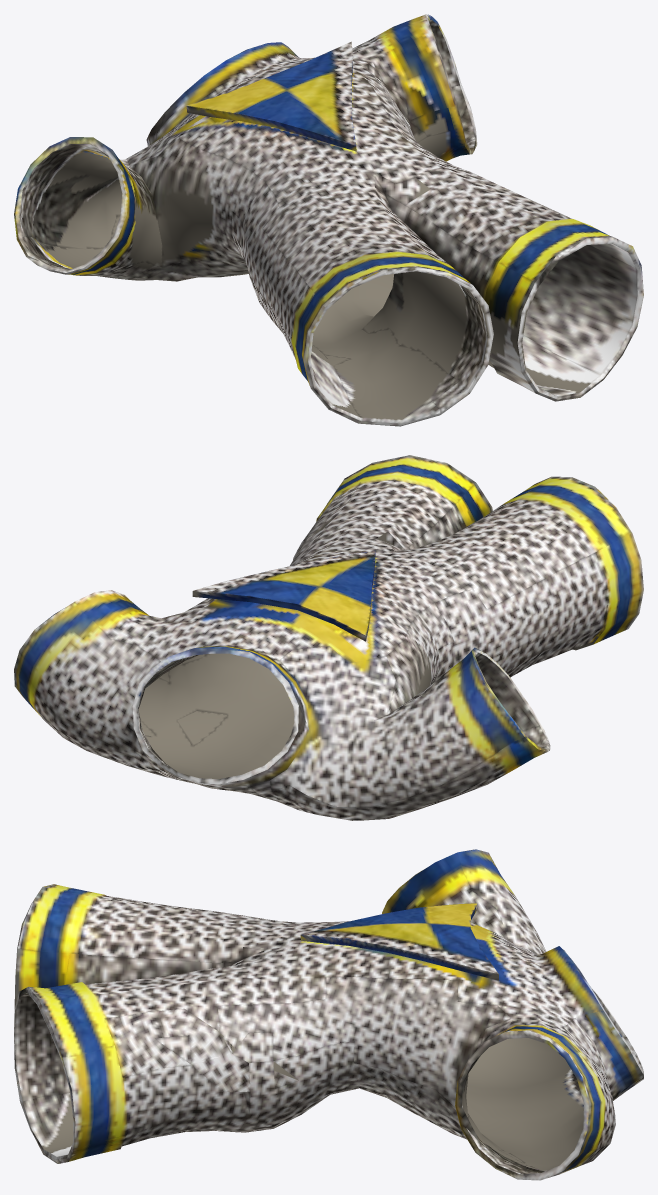
File: item_mm9_10102.glb
The picture shows the model from 3 angles, top to bottom: view 1: azimuth 30°, elevation 25°; view 2: azimuth 150°, elevation 25°; view 3: azimuth 270°, elevation 25°; orthographic projection. The views are drawn at different scales.
Visible parts, largest first — view 1: d10102; view 2: d10102; view 3: d10102.
Boxes of the visible parts, x1,y1,x2,y2 form: d10102: (14, 14, 643, 426); d10102: (14, 455, 643, 820); d10102: (14, 849, 643, 1180).
Bounding box in the file's own units: 0.9078 × 0.3352 × 0.9989.
Materials: 1 (1 with a texture image).
